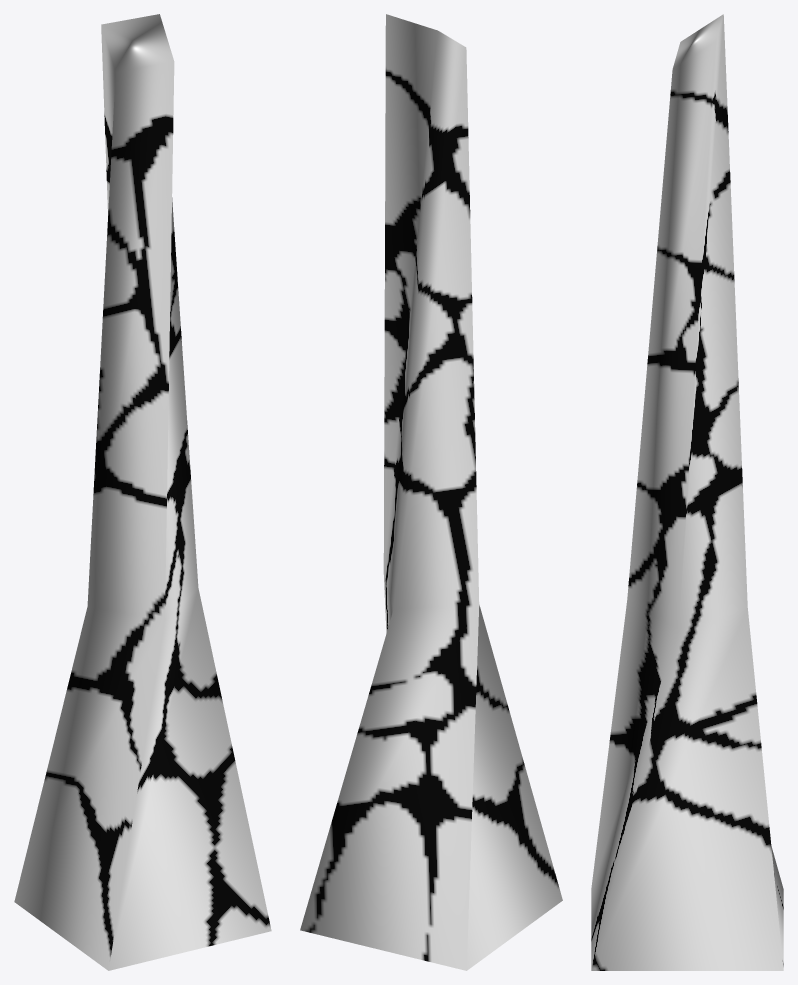
Rendered from Stone_04_06.fbx.
3 renders of one model, left to right at view 1: azimuth 30°, elevation 25°; view 2: azimuth 150°, elevation 25°; view 3: azimuth 270°, elevation 25°, orthographic. The views are drawn at different scales.
Visible parts, largest first — view 1: Stone_04_06; view 2: Stone_04_06; view 3: Stone_04_06.
Part boxes in pixels (x1,y1,x2,y2): Stone_04_06: (14,14,271,970); Stone_04_06: (300,14,562,970); Stone_04_06: (591,14,783,970).
Bounding box in the file's own units: 2 × 10.37 × 2.
